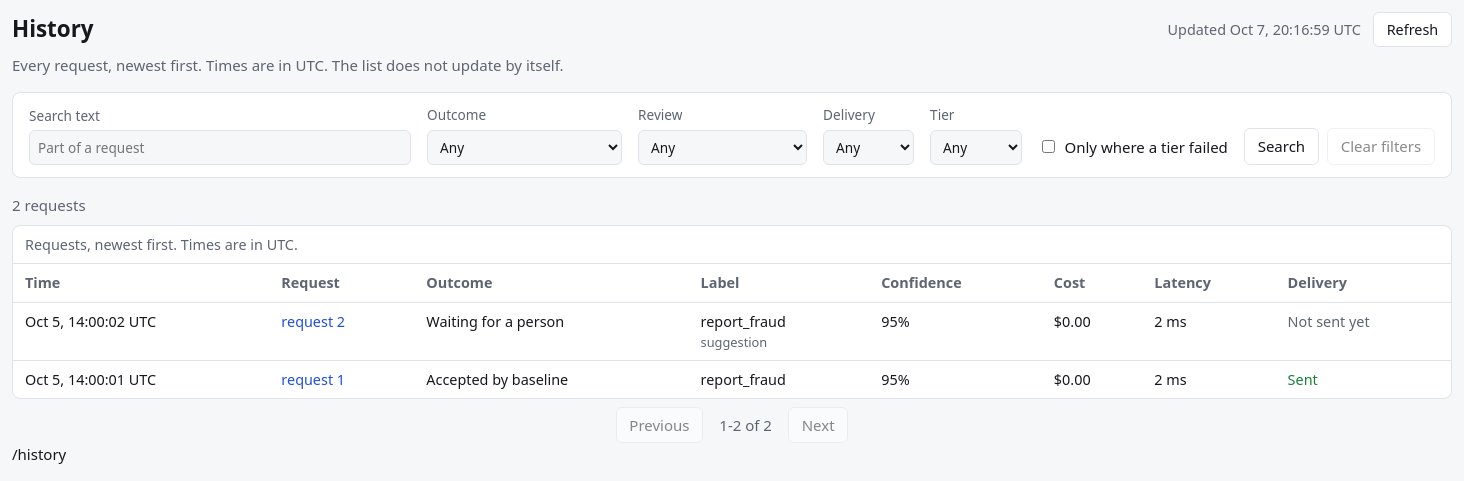
Scenario: filters › filters by outcome and puts the choice in the address
The width and height of the screenshot is (1464, 481).
expect the text "2 requests" is shown: met, box [12, 195, 86, 215]
Select "Sent to a person" in the dropdown labelled "Outcome": point(525, 147) [427, 130, 622, 165]
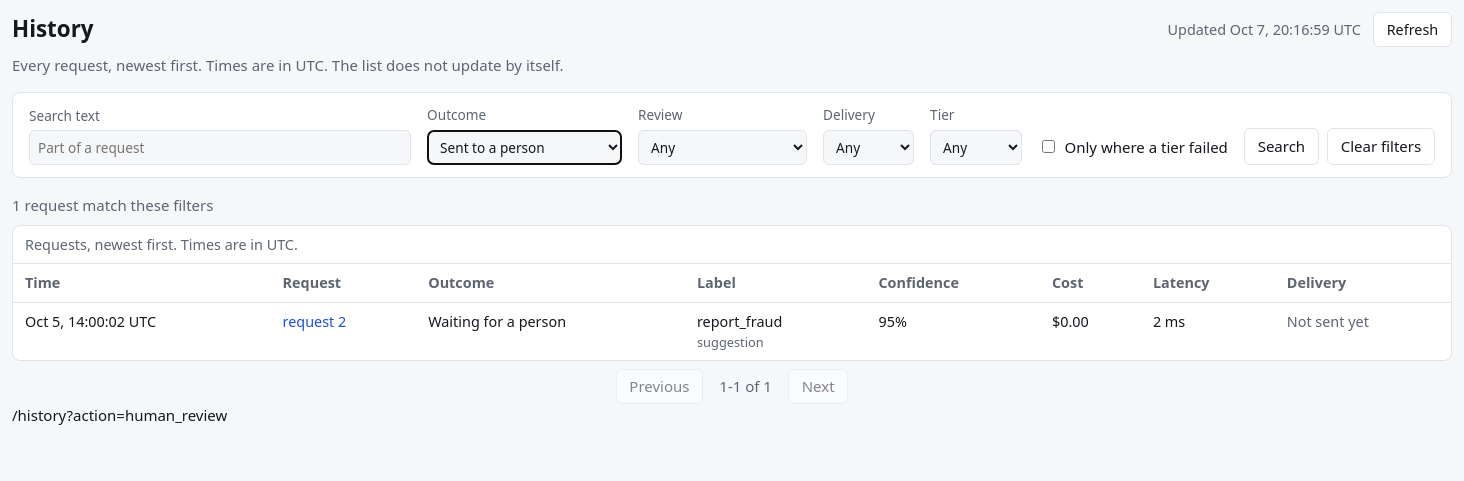
expect the text "1 request match these filters" is shown: met, box [12, 195, 213, 215]
expect the text named "Address" reads "/history?action=human_review": met, box [12, 406, 227, 426]
